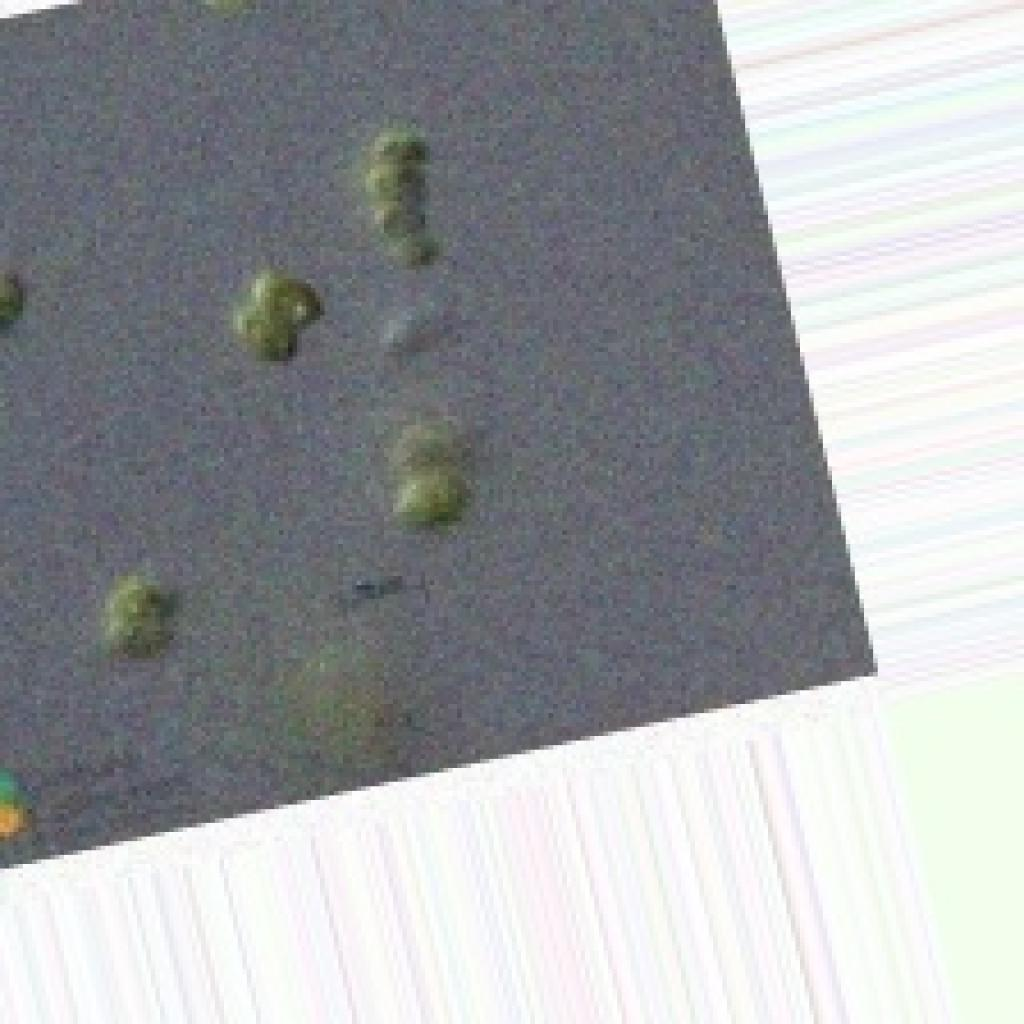Microalgae: (0, 105, 550, 715)
